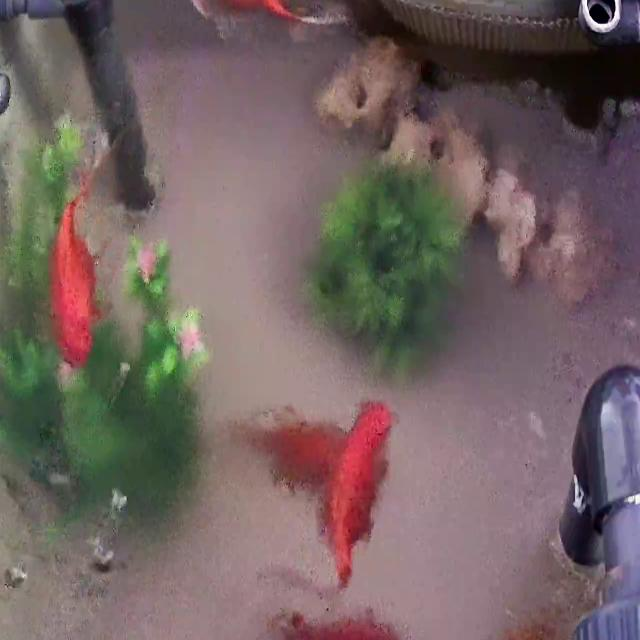fish: (325, 400, 391, 590), (47, 159, 105, 370), (244, 418, 349, 488), (184, 0, 337, 33), (273, 609, 397, 640), (460, 623, 552, 640)
